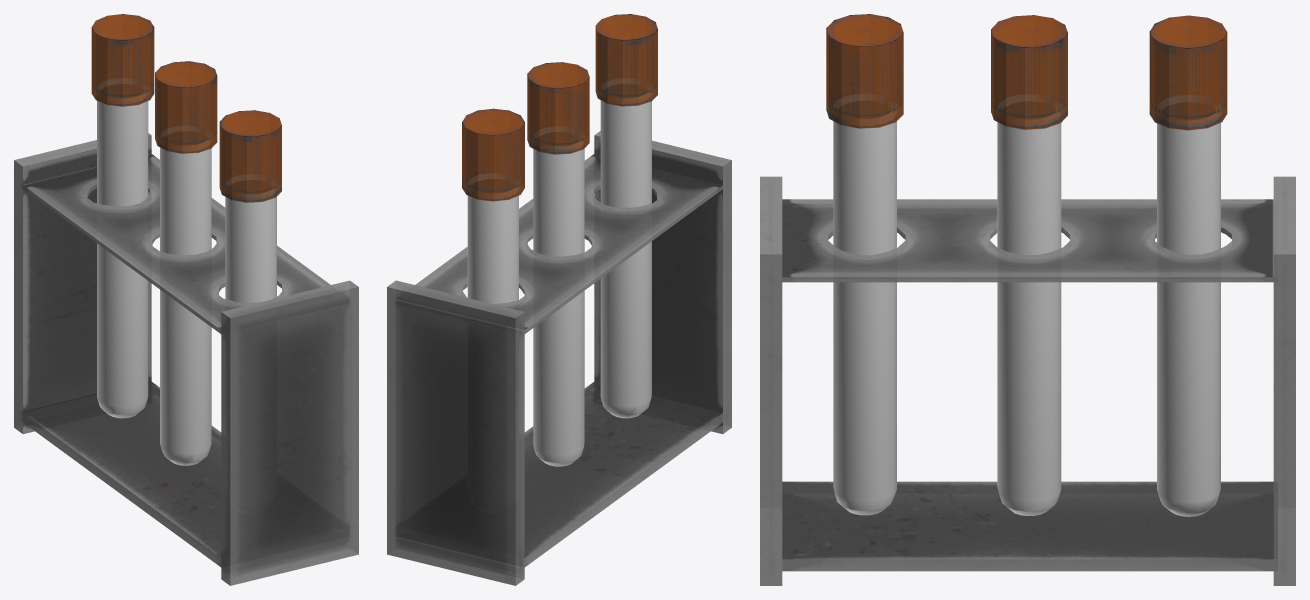
Rendered from tubes1.fbx.
3 renders of one model, left to right at view 1: azimuth 30°, elevation 25°; view 2: azimuth 150°, elevation 25°; view 3: azimuth 270°, elevation 25°, orthographic. The views are drawn at different scales.
Visible parts, largest first — view 1: tubes1; view 2: tubes1; view 3: tubes1.
Part boxes in pixels (<box>): tubes1: <box>14,14,358,585</box>; tubes1: <box>387,14,731,585</box>; tubes1: <box>760,14,1295,585</box>.
Size of the model in its own units: 0.0534 by 0.1651 by 0.1554.
